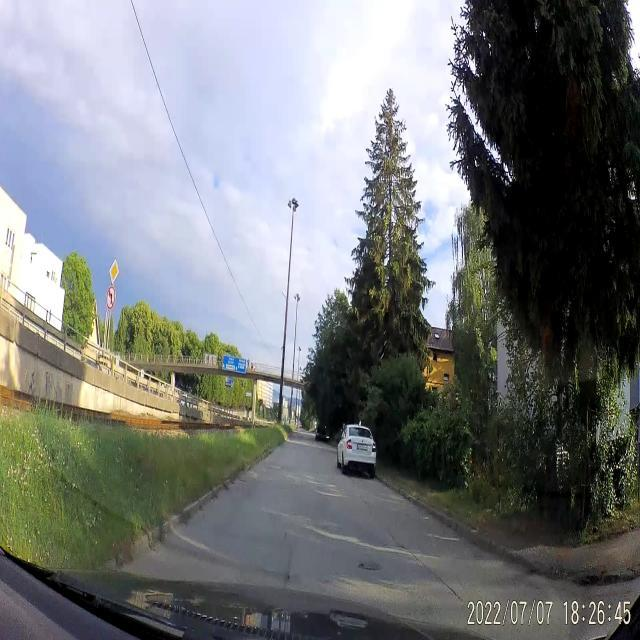Pothole: (354, 553, 380, 575)
